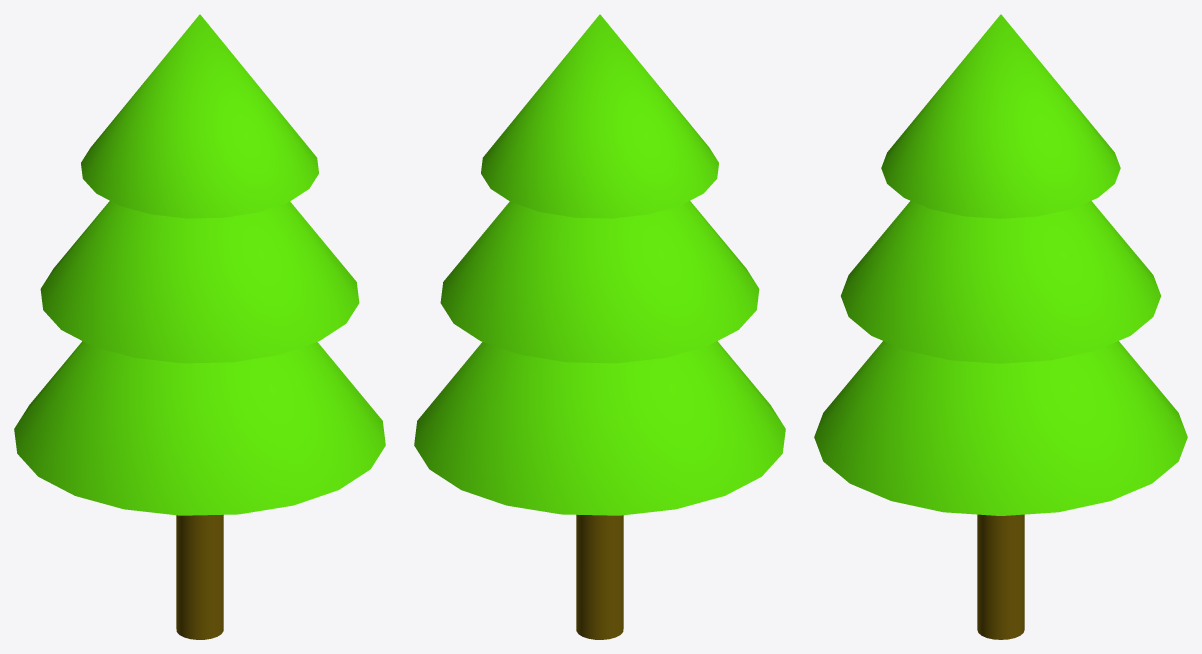
The model's file is wood.fbx.
3 views of the same model, side by side, from view 1: azimuth 30°, elevation 25°; view 2: azimuth 150°, elevation 25°; view 3: azimuth 270°, elevation 25° (orthographic).
Parts seen in each view (by area): view 1: pCone1, pCone2, pCone3, pCylinder1; view 2: pCone1, pCone2, pCone3, pCylinder1; view 3: pCone1, pCone2, pCone3, pCylinder1.
Boxes of the visible parts, <box> form: pCone1: <box>14,341,385,515</box>; pCone2: <box>40,201,359,363</box>; pCone3: <box>81,14,318,218</box>; pCylinder1: <box>176,514,223,639</box>; pCone1: <box>414,341,785,515</box>; pCone2: <box>440,201,759,363</box>; pCone3: <box>481,14,718,218</box>; pCylinder1: <box>576,514,623,639</box>; pCone1: <box>814,341,1187,515</box>; pCone2: <box>841,200,1160,363</box>; pCone3: <box>881,14,1120,218</box>; pCylinder1: <box>977,514,1024,639</box>.
Size of the model in its own units: 7.89 by 14.35 by 7.89.
